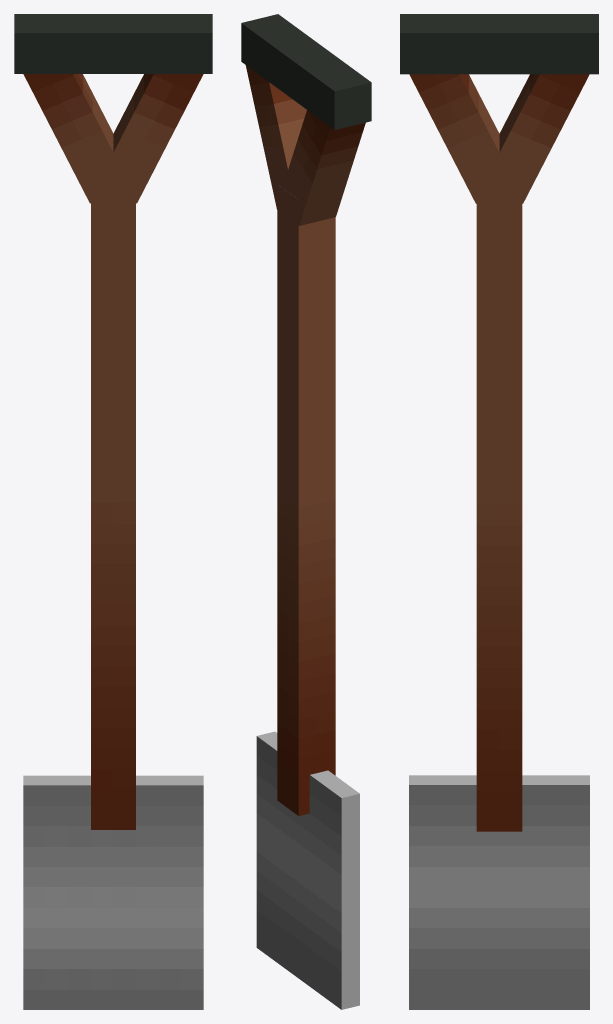
File: Shovel.gltf
3 views of the same model, side by side, from view 1: azimuth 90°, elevation 25°; view 2: azimuth 210°, elevation 25°; view 3: azimuth 270°, elevation 25° (orthographic). The views are drawn at different scales.
Visible parts, largest first — view 1: cube (×5); view 2: cube (×5); view 3: cube (×5).
Boxes of the visible parts, bbox=[...] form: cube (×5): bbox=[14, 14, 212, 1009]; cube (×5): bbox=[241, 14, 371, 1009]; cube (×5): bbox=[400, 14, 598, 1009].
Size of the model in its own units: 0.0314 by 0.7501 by 0.1376.
Materials: 1 (1 with a texture image).
